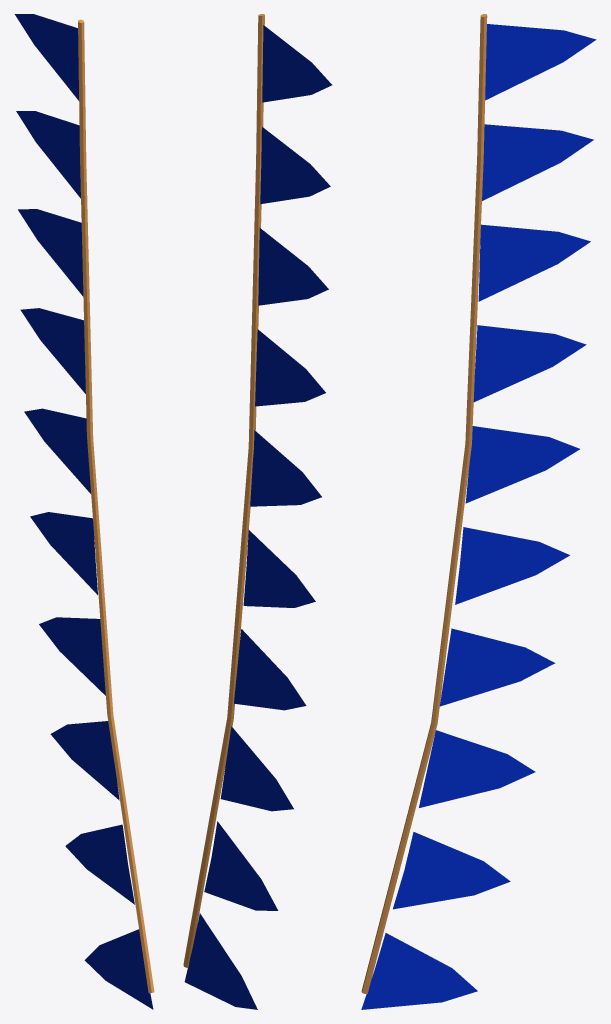
The model's file is SM_Bandeira_Caidas.fbx.
3 views of the same model, side by side, from view 1: azimuth 30°, elevation 25°; view 2: azimuth 210°, elevation 25°; view 3: azimuth 270°, elevation 25° (orthographic). The views are drawn at different scales.
Parts seen in each view (by area): view 1: NurbsPath.007; view 2: NurbsPath.007; view 3: NurbsPath.007.
Part boxes in pixels (x1,y1,x2,y2): NurbsPath.007: [14, 14, 154, 1009]; NurbsPath.007: [183, 14, 332, 1009]; NurbsPath.007: [361, 14, 596, 1009].
Size of the model in its own units: 17.18 by 548 by 118.
